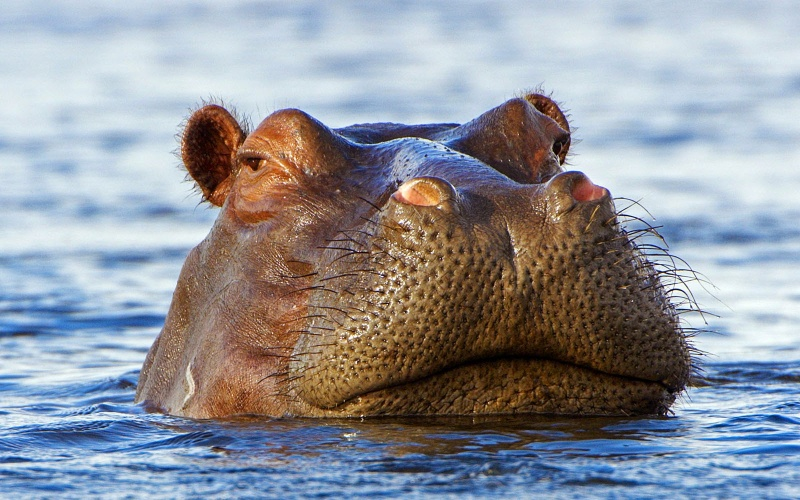hipopotamo: (131, 89, 704, 432)
